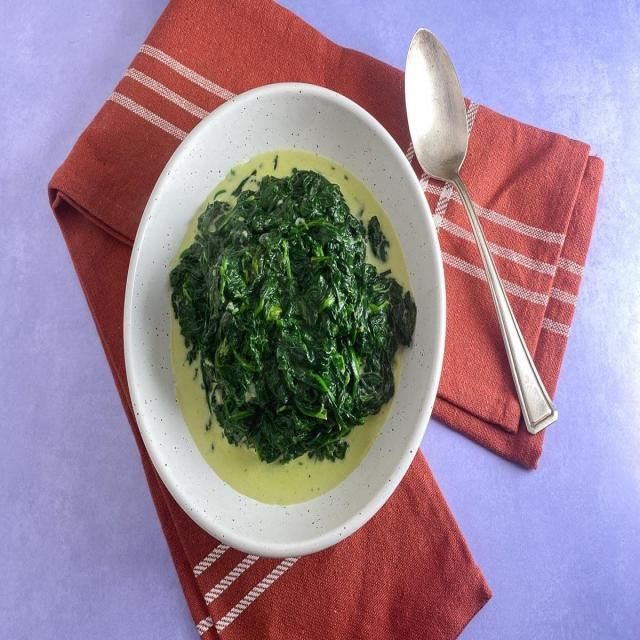Spinach: (169, 150, 419, 475)
